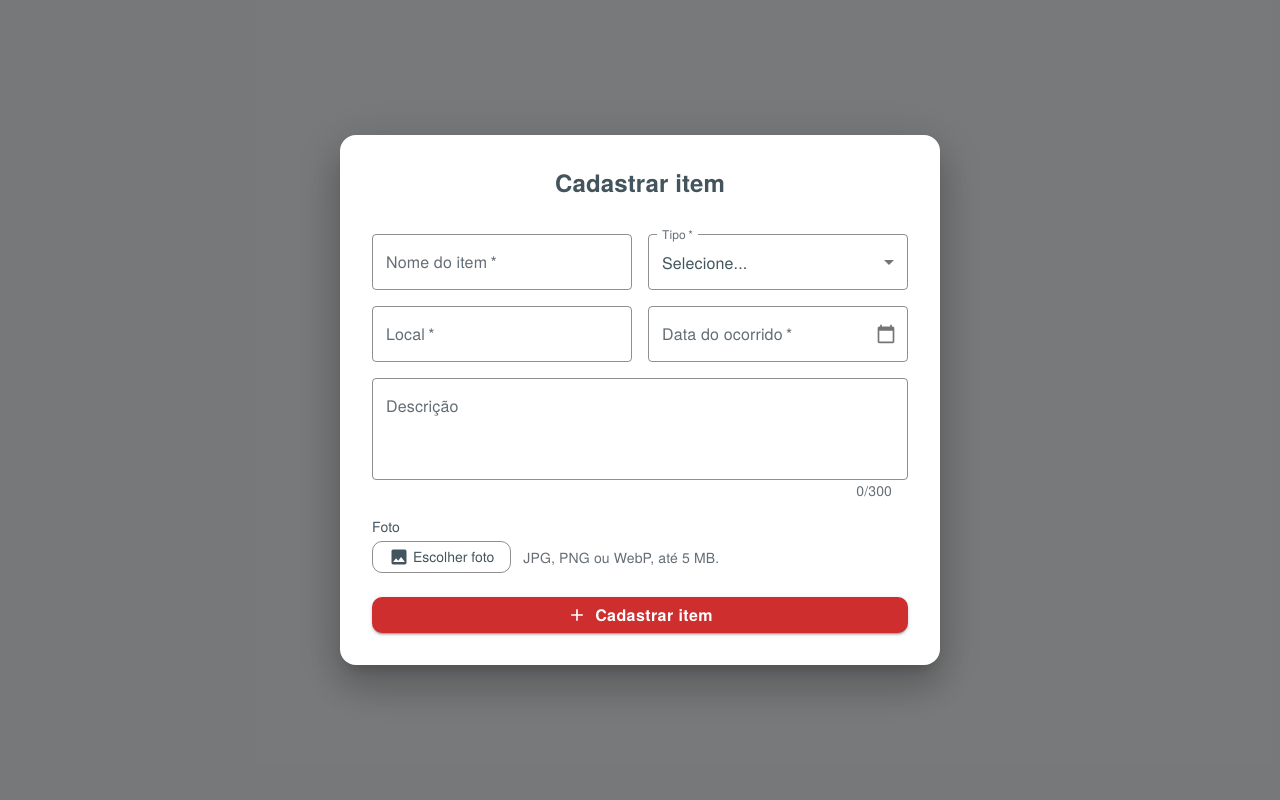
Test: LostItemFormDialog › should refuse to submit an empty form and say what is missing
expect the heading "Cadastrar item" is shown: met, box [555,165,725,199]
What coordinates should you click on to do the following:
click the button "Cadastrar item"
I would click on:
 (640, 615)
Its box is [372,597,908,633].
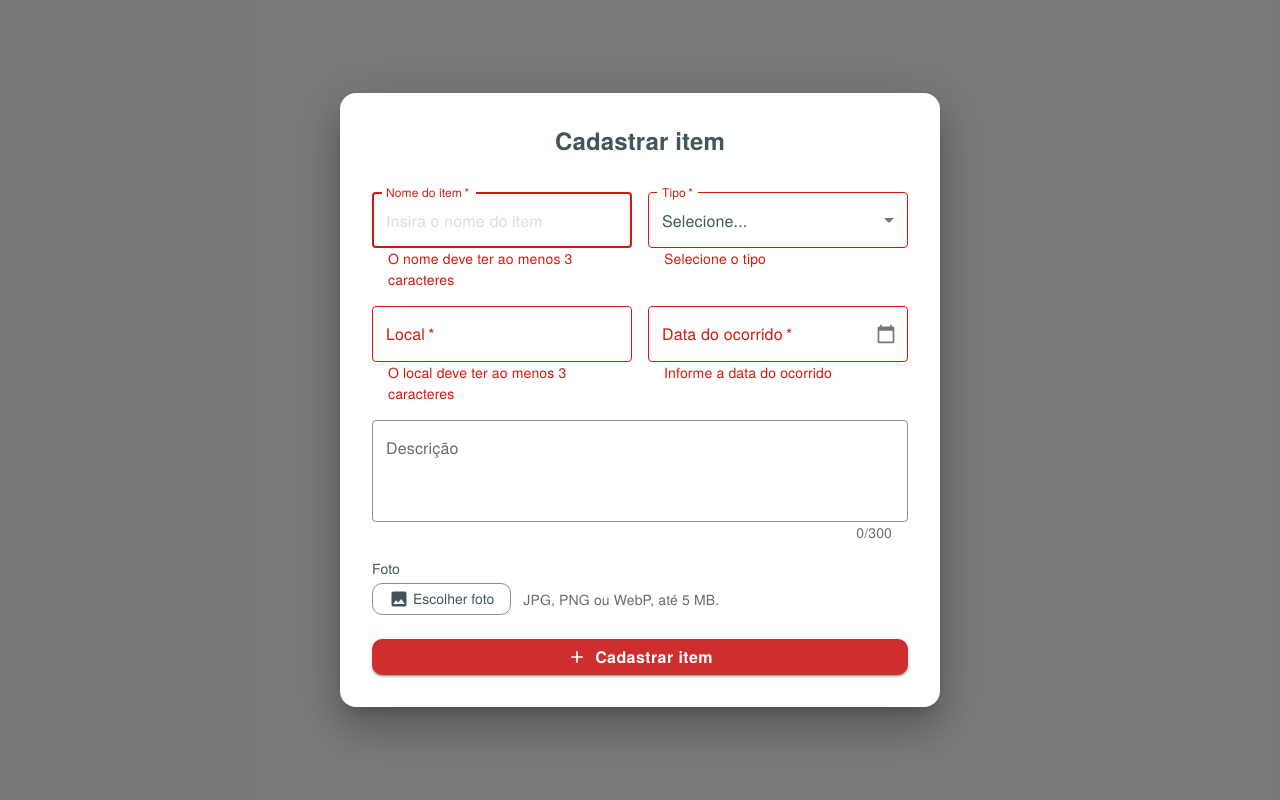
expect the text "O nome deve ter ao menos 3 caracteres" is shown: met, box [388,248,572,289]
expect the text "O local deve ter ao menos 3 caracteres" is shown: met, box [388,362,566,403]
